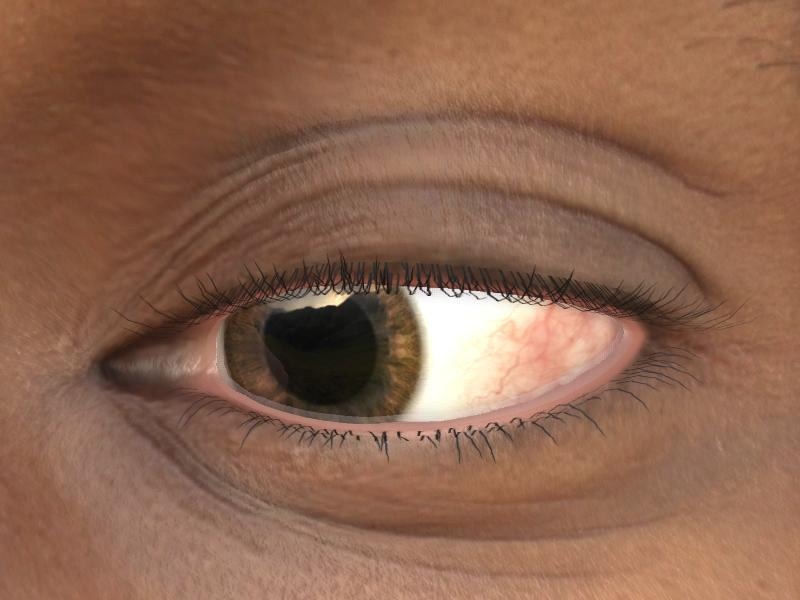eye: (224, 287, 425, 424)
